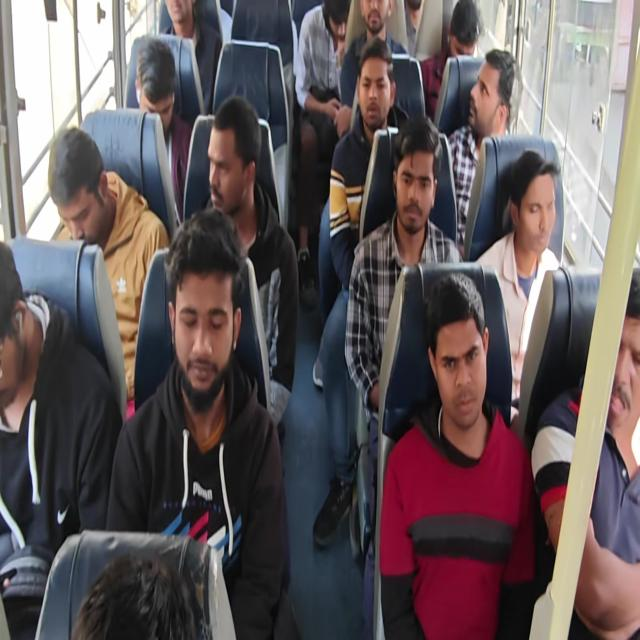person: (1, 1, 638, 638), (105, 207, 298, 638), (343, 116, 464, 636), (379, 271, 536, 638), (312, 38, 410, 548), (0, 239, 123, 638), (531, 266, 639, 638), (48, 126, 170, 420), (202, 95, 299, 442), (474, 149, 562, 422), (329, 38, 409, 292), (293, 0, 351, 307), (446, 48, 516, 248), (71, 551, 198, 639), (134, 38, 193, 223), (339, 0, 409, 128), (419, 0, 483, 121), (158, 0, 222, 115), (403, 0, 423, 56)
